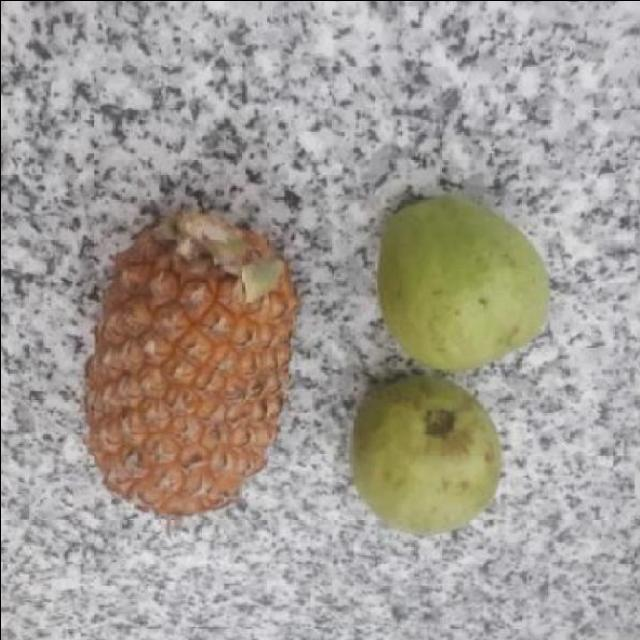guava: (378, 195, 554, 368), (349, 376, 507, 530)
pineapple: (85, 212, 298, 514)
